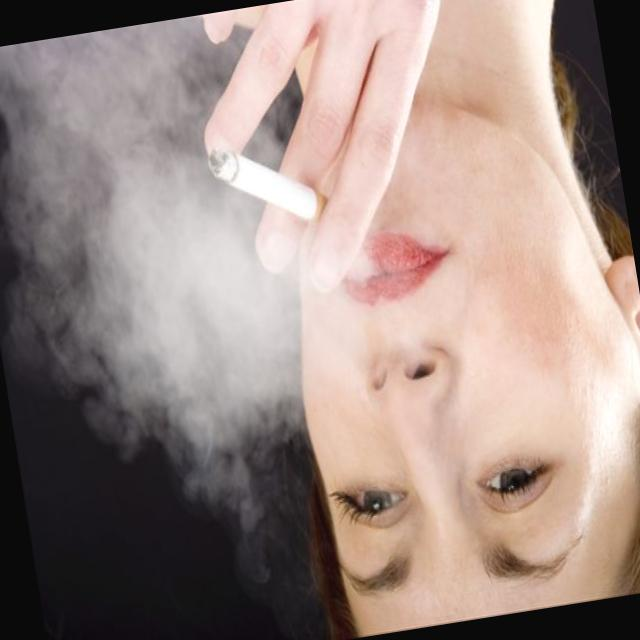smoke: (196, 125, 332, 245)
